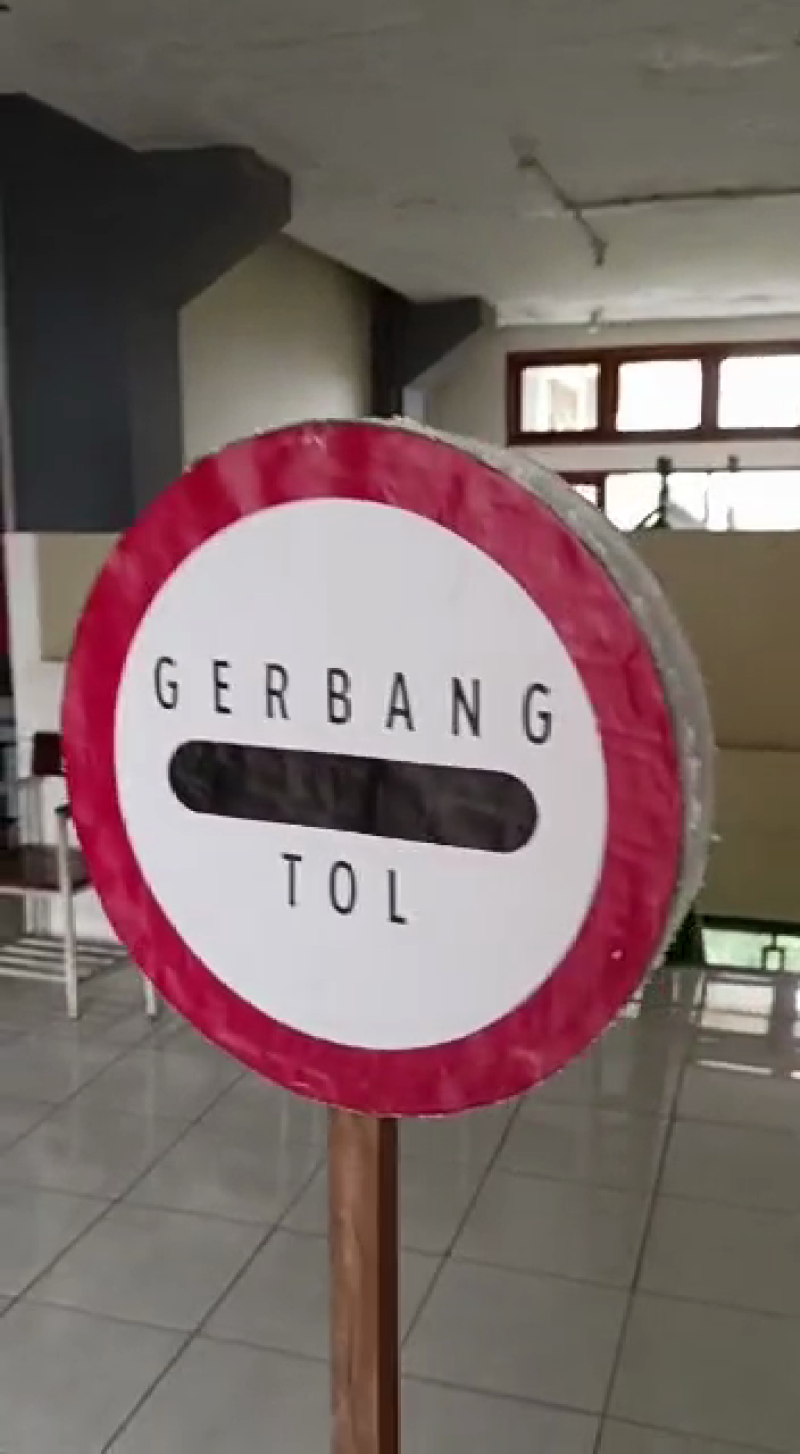gerbang tol: (59, 406, 705, 1135)
